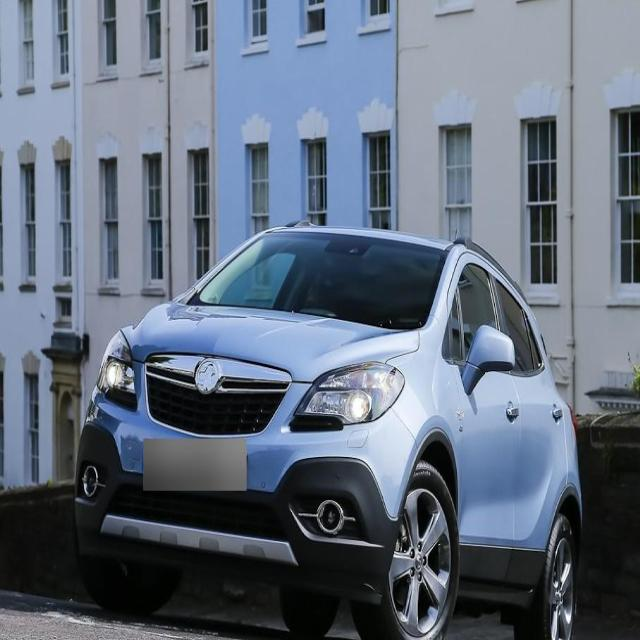door: (493, 278, 571, 570)
front_bumper: (59, 417, 412, 594)
front_glass: (182, 214, 453, 340)
front_left_side_door: (432, 240, 528, 564)
front_left_side_light: (283, 354, 407, 454)
front_left_side_mirror: (459, 324, 518, 397)
front_right_side_light: (86, 323, 148, 426)
wheel: (352, 451, 467, 638), (514, 489, 598, 640)
